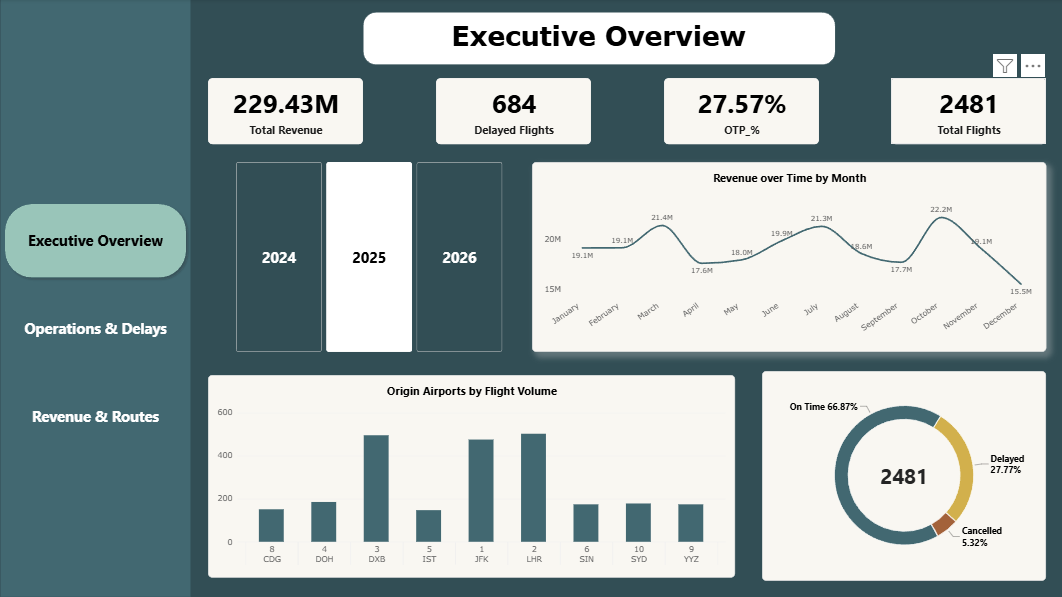

This screenshot's page, from the dashboard's own definition file:
{"tool":"powerbi","page":{"name":"Executive Overview","canvas":[1920,1080],"ordinal":0},"visuals":[{"type":"shape","box":[0,0,344.9,1080.6],"z":0},{"type":"cardVisual","fields":{"Data":["_measures (2).Total Revenue"]},"box":[376.6,142.8,280,120],"z":1000},{"type":"cardVisual","fields":{"Data":["_measures (2).Total Flights"]},"box":[1609.7,142.8,280,120],"z":2000},{"type":"cardVisual","fields":{"Data":["_measures .OTP_%"]},"box":[1198.6,142.8,280,120],"z":3000},{"type":"shape","box":[656.3,23.6,853.3,95.7],"z":4000,"group":"g1"},{"type":"lineChart","title":"Monthly Revenue Trend","fields":{"Y":["Sum(Flights_Raw.Revenue)"],"Category":["Date_Table.Date.Variation.Date Hierarchy.Year","Date_Table.Date.Variation.Date Hierarchy.Quarter","Date_Table.Date.Variation.Date Hierarchy.Month"]},"box":[960,293.8,929,343.4],"z":4000},{"type":"textbox","box":[777.9,35.6,608.1,71.8],"z":5000,"group":"g1"},{"type":"advancedSlicerVisual","fields":{"Values":["Date_Table.Year"]},"box":[426.2,293.8,482.1,343.4],"z":5000},{"type":"clusteredColumnChart","title":"Top Origin Airports by Departures","fields":{"Y":["_measures .Total Flights"],"Category":["Dim_Origin_Airports.AirportCode","Dim_Origin_Airports.AirportID"]},"box":[376.6,678.6,951.7,366.2],"z":6000},{"type":"pageNavigator","box":[0,362.1,345.5,469.7],"z":7000},{"type":"cardVisual","fields":{"Data":["_measures .Delayed Flights"]},"box":[787.6,142.8,280,120],"z":8000},{"type":"donutChart","title":"Flight Status Breakdown","fields":{"Category":["Flights_Raw.Status"],"Y":["_measures .Total Flights"]},"box":[1375.9,672.4,513.1,378.6],"z":9000},{"type":"group","id":"g1","title":"Group 1","box":[656.3,23.6,853.4,96.6],"z":10000}]}

Visuals, with their boxes in screenshot pixels (x1, y1, x2, y2), scaled from the page's 1920x1080 canvas onto the 1062x597 screenshot:
shape: bbox=[0, 0, 191, 596]
cardVisual - _measures (2).Total Revenue: bbox=[208, 79, 363, 145]
cardVisual - _measures (2).Total Flights: bbox=[890, 79, 1045, 145]
cardVisual - _measures .OTP_%: bbox=[663, 79, 818, 145]
shape: bbox=[363, 13, 835, 66]
"Monthly Revenue Trend" lineChart: bbox=[531, 162, 1045, 352]
textbox: bbox=[430, 20, 767, 59]
advancedSlicerVisual - Date_Table.Year: bbox=[236, 162, 502, 352]
"Top Origin Airports by Departures" clusteredColumnChart: bbox=[208, 375, 735, 578]
pageNavigator: bbox=[0, 200, 191, 460]
cardVisual - _measures .Delayed Flights: bbox=[436, 79, 591, 145]
"Flight Status Breakdown" donutChart: bbox=[761, 372, 1045, 581]
"Group 1" group: bbox=[363, 13, 835, 66]
